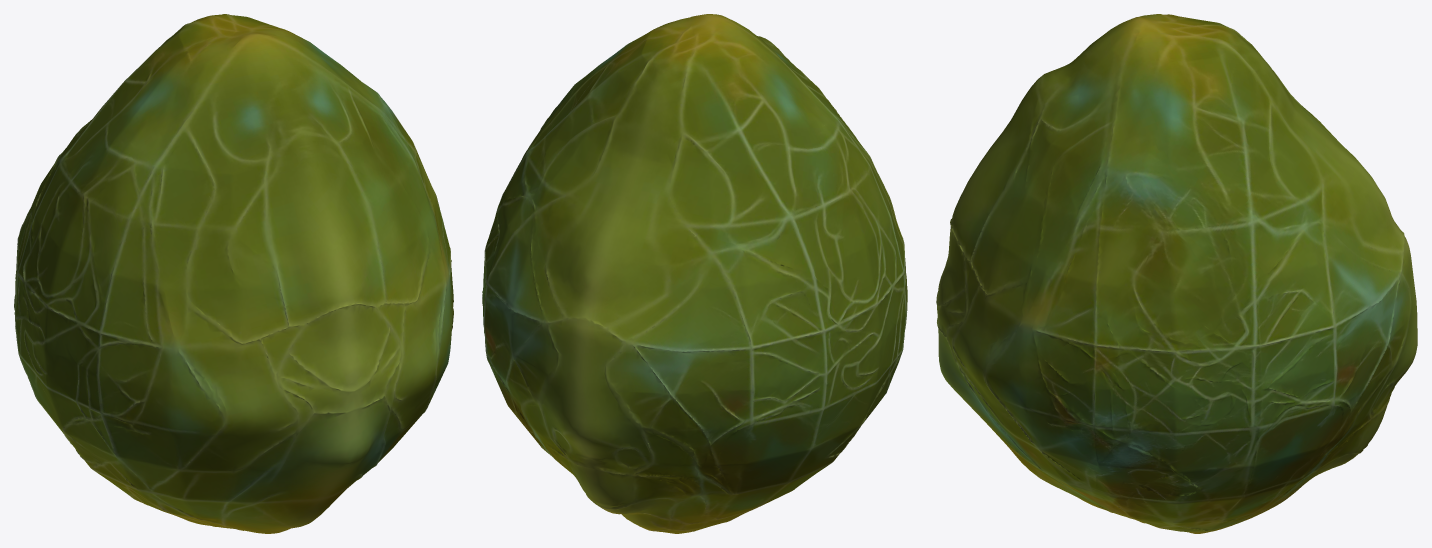
The model's file is new-stone-model.fbx.
3 views of the same model, side by side, from view 1: azimuth 30°, elevation 25°; view 2: azimuth 150°, elevation 25°; view 3: azimuth 270°, elevation 25° (orthographic). The views are drawn at different scales.
Visible parts, largest first — view 1: tripo_node_829f4591; view 2: tripo_node_829f4591; view 3: tripo_node_829f4591.
Boxes of the visible parts, bbox=[...] form: tripo_node_829f4591: bbox=[14, 14, 453, 533]; tripo_node_829f4591: bbox=[482, 14, 907, 533]; tripo_node_829f4591: bbox=[936, 14, 1417, 533].
Bounding box in the file's own units: 0.7827 × 1 × 0.8558.
1 material, 1 textured.
